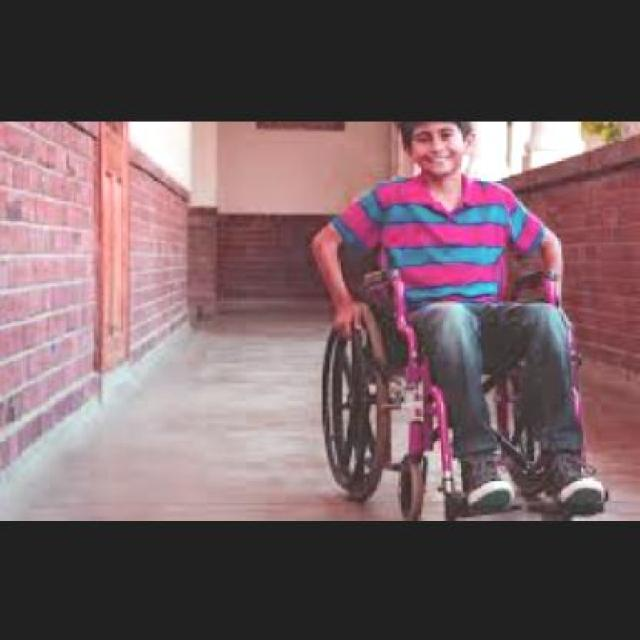wheelchairs: (318, 269, 602, 516)
